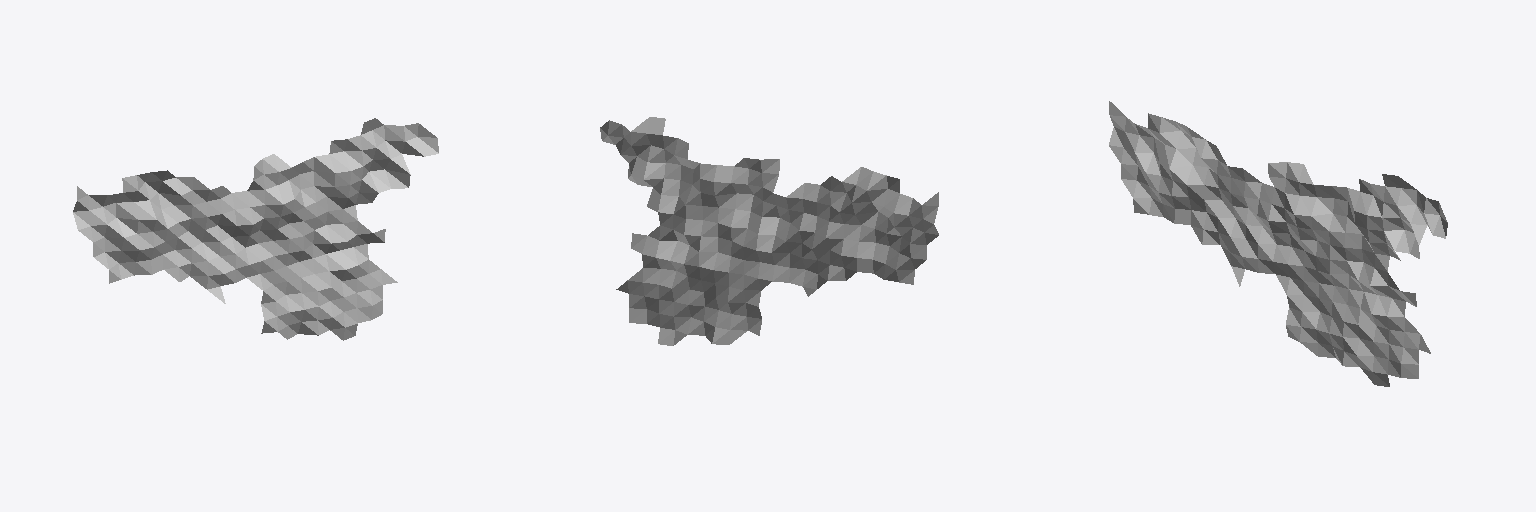
Rendered from DEBKGNU200000099.obj.
3 views of the same model, side by side, from view 1: azimuth 30°, elevation 25°; view 2: azimuth 150°, elevation 25°; view 3: azimuth 330°, elevation 25° (orthographic).
Bounding box in the file's own units: 25000 × 15000 × 2126.